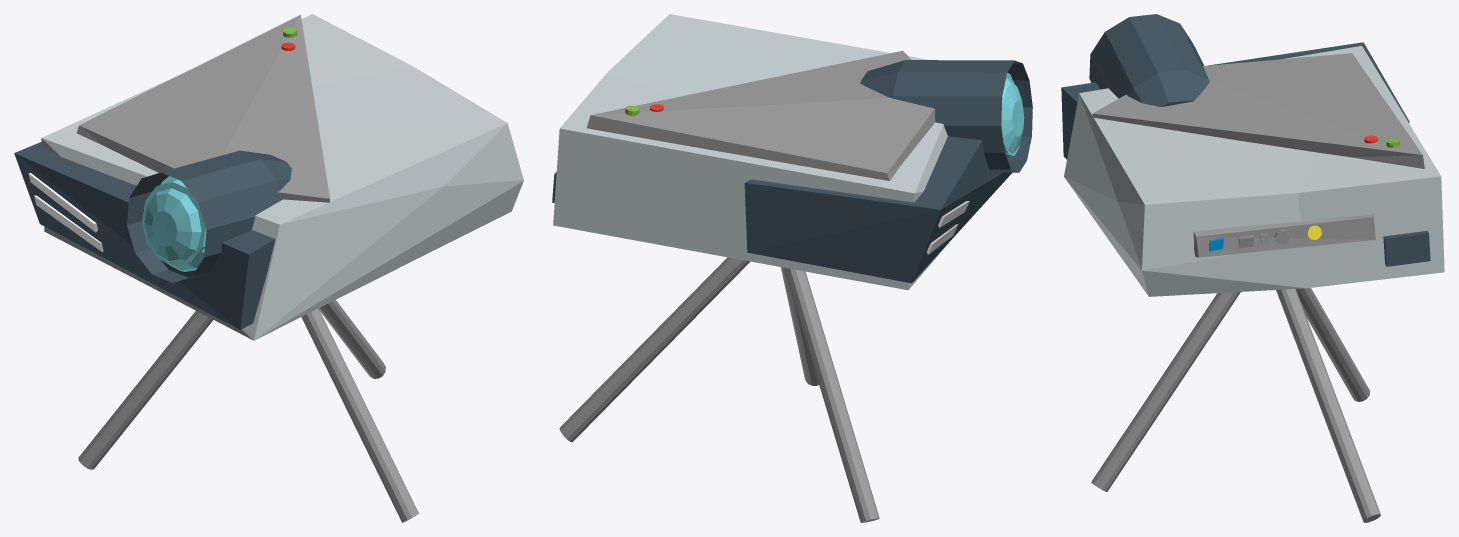
File: projector.glb
3 renders of one model, left to right at view 1: azimuth 30°, elevation 25°; view 2: azimuth 150°, elevation 25°; view 3: azimuth 270°, elevation 25°, orthographic. The views are drawn at different scales.
Parts seen in each view (by area): view 1: group438710673, group1487612751, group984812262; view 2: group438710673; view 3: group438710673.
Part boxes in pixels (bbox=[...]): group438710673: bbox=[14, 14, 523, 522]; group1487612751: bbox=[28, 173, 97, 232]; group984812262: bbox=[34, 195, 103, 252]; group438710673: bbox=[552, 14, 1032, 522]; group438710673: bbox=[1061, 14, 1444, 522].
Size of the model in its own units: 0.2964 by 0.2741 by 0.255.
